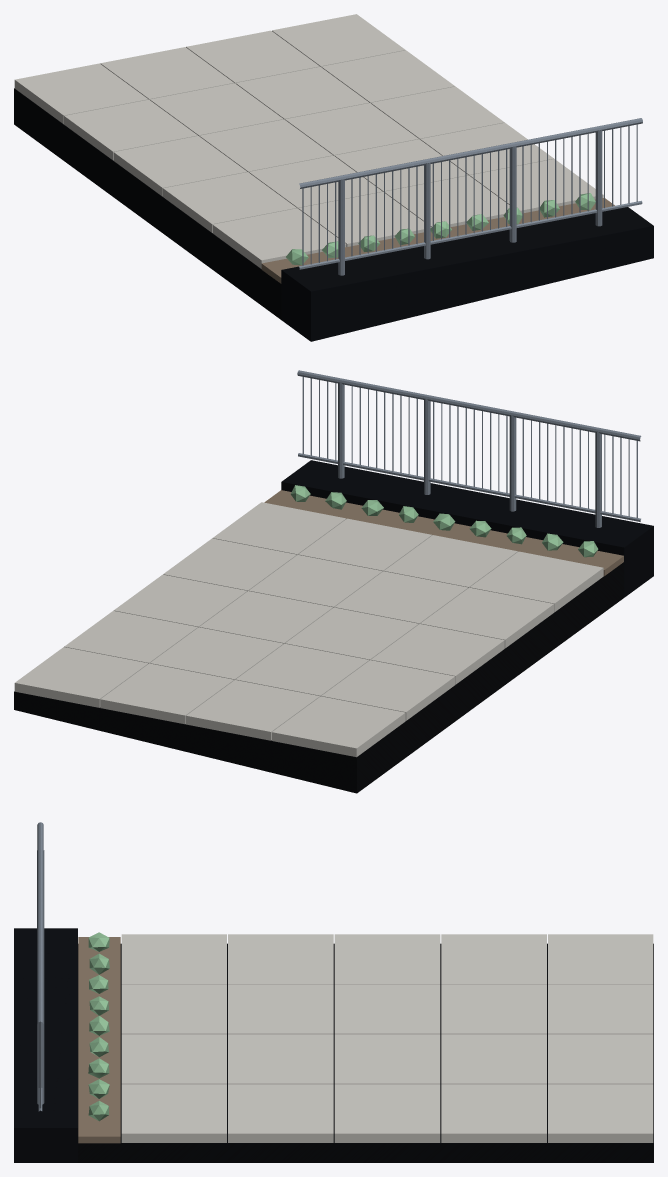
File: v3_ramp.glb
The picture shows the model from 3 angles, top to bottom: view 1: azimuth 30°, elevation 25°; view 2: azimuth 150°, elevation 25°; view 3: azimuth 270°, elevation 25°; orthographic projection. The views are drawn at different scales.
Visible parts, largest first — view 1: Pavers_A, Pavers_B, Ramp_Kerb, Guard_Frame, Ramp_Body, Verge_Soil, Verge_Moss; view 2: Pavers_A, Pavers_B, Ramp_Body, Ramp_Kerb, Guard_Frame, Verge_Soil, Verge_Moss; view 3: Pavers_B, Pavers_A, Ramp_Kerb, Ramp_Body, Verge_Soil, Verge_Moss, Guard_Frame.
Boxes of the visible parts, box(x1,y1,x2,y2) form: Pavers_A: box(14, 30, 553, 268); Pavers_B: box(64, 14, 603, 246); Ramp_Kerb: box(281, 207, 653, 341); Guard_Frame: box(299, 118, 642, 275); Ramp_Body: box(14, 88, 281, 319); Verge_Soil: box(261, 198, 614, 283); Verge_Moss: box(286, 193, 595, 265); Pavers_A: box(64, 518, 603, 757); Pavers_B: box(14, 502, 554, 740); Ramp_Body: box(14, 562, 624, 793); Ramp_Kerb: box(281, 460, 653, 597); Guard_Frame: box(297, 370, 641, 527); Verge_Soil: box(264, 490, 623, 576); Verge_Moss: box(290, 485, 598, 557); Pavers_B: box(121, 934, 653, 1142); Pavers_A: box(121, 934, 653, 1142); Ramp_Kerb: box(14, 928, 77, 1162); Ramp_Body: box(78, 943, 653, 1162); Verge_Soil: box(78, 937, 120, 1143); Verge_Moss: box(88, 932, 109, 1121); Guard_Frame: box(37, 822, 44, 1111).
Size of what is drawn, in the model's own units: 4 by 1.66 by 6.
Materials: 6 (3 with a texture image).
